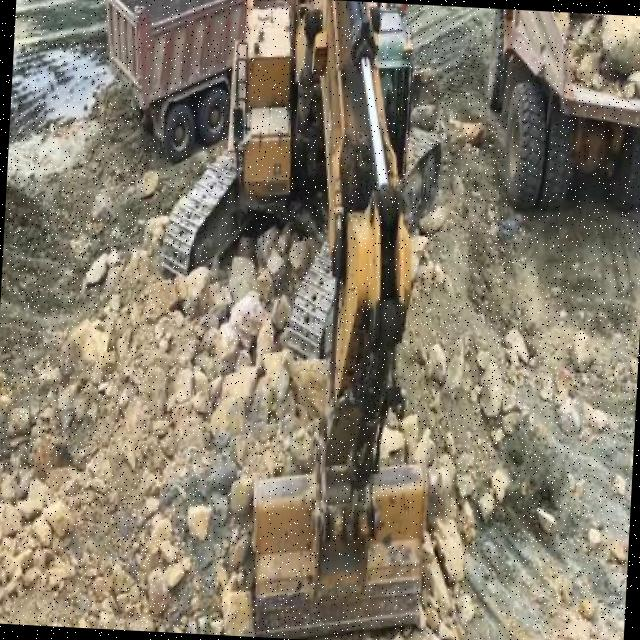Dump Truck: (468, 8, 640, 226), (96, 0, 249, 166)
Excavator: (136, 0, 462, 640)
